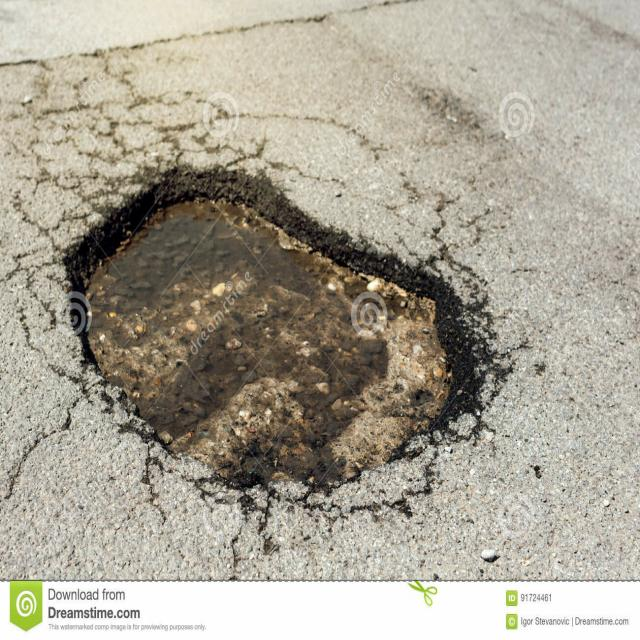Pothole: (39, 138, 497, 531)
